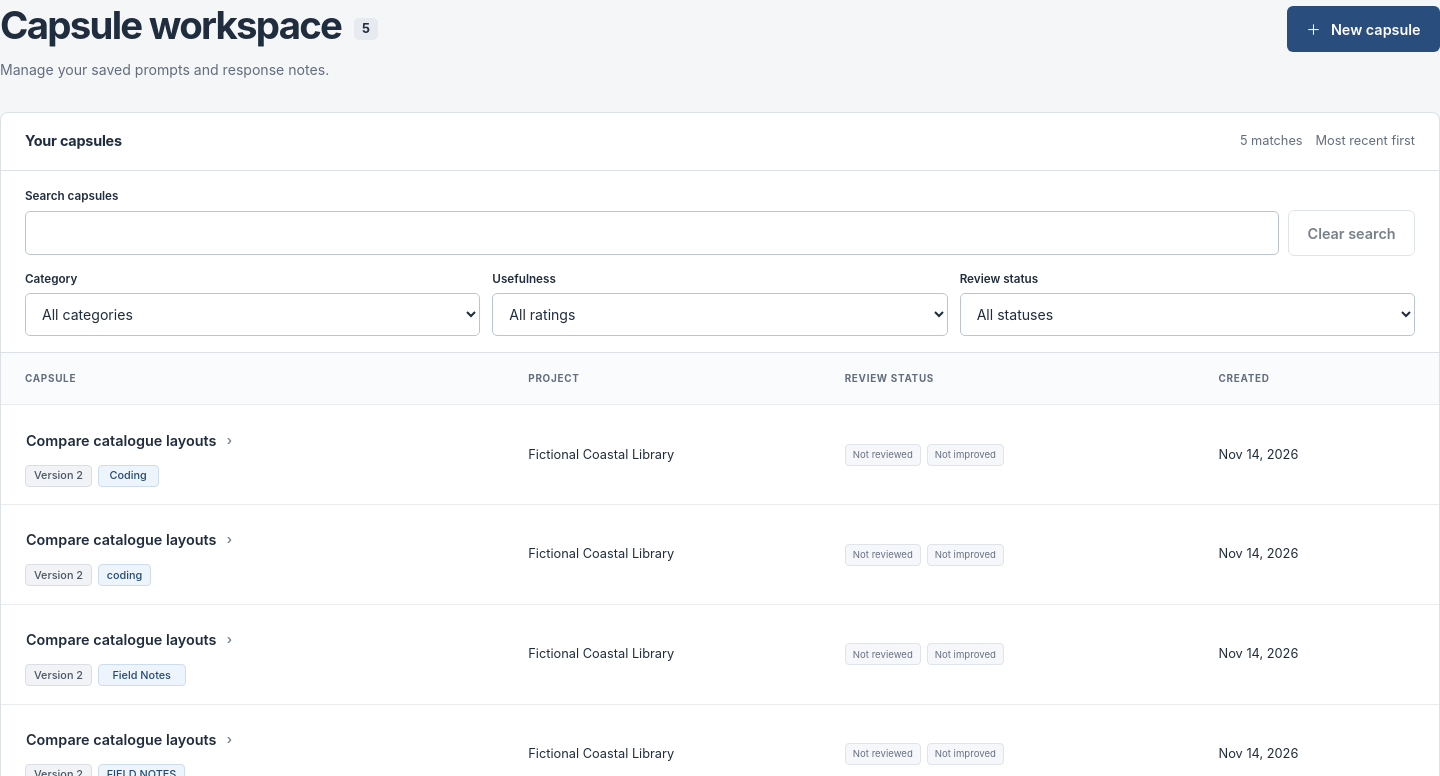
it: capsule workspace › suggests loaded categories once, with trimming and case-insensitive deduplication
This screenshot has width=1440, height=776.
Click the button "＋ New capsule": (1363, 29) [1287, 6, 1439, 52]
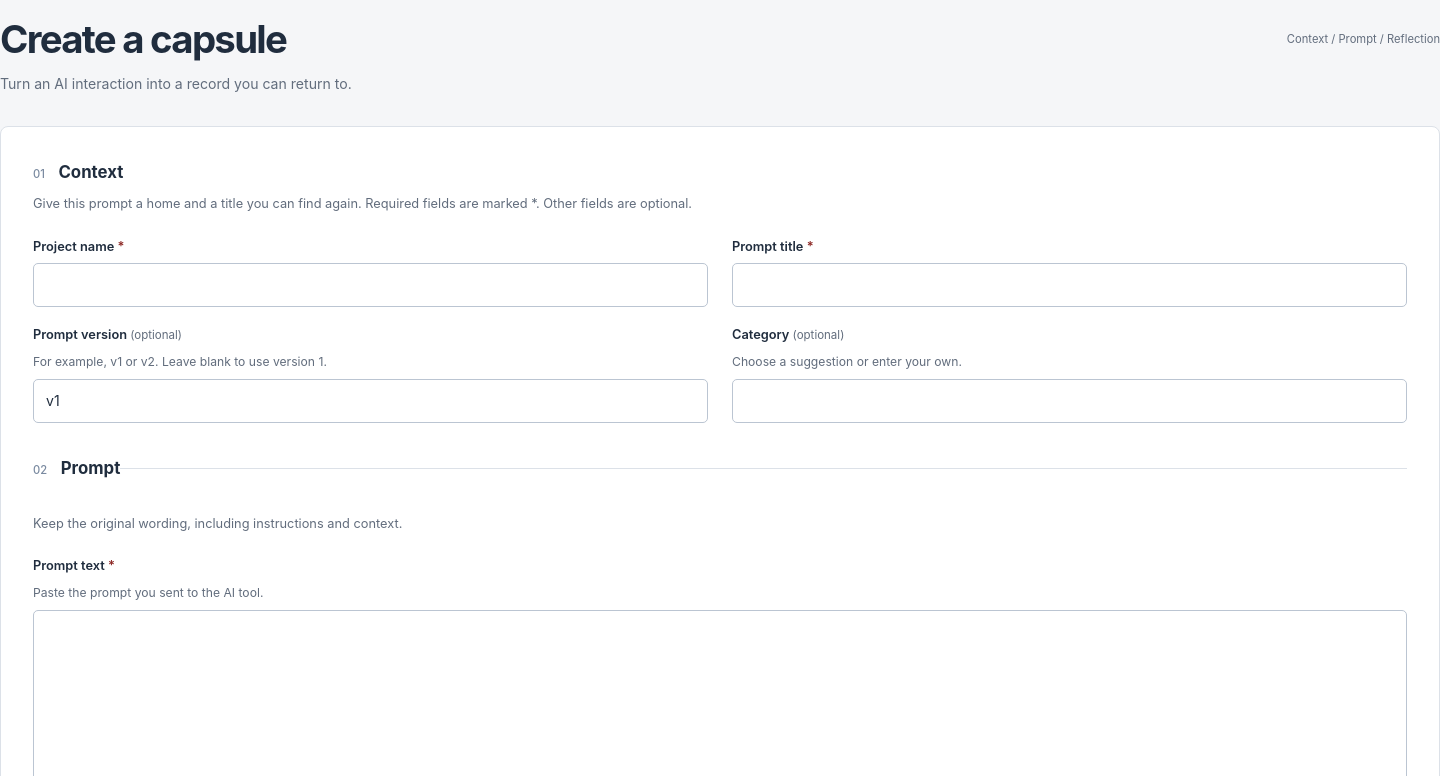
In the field labelled "Project name *": (370, 285) [33, 263, 708, 307], type "Fictional Coastal Library"
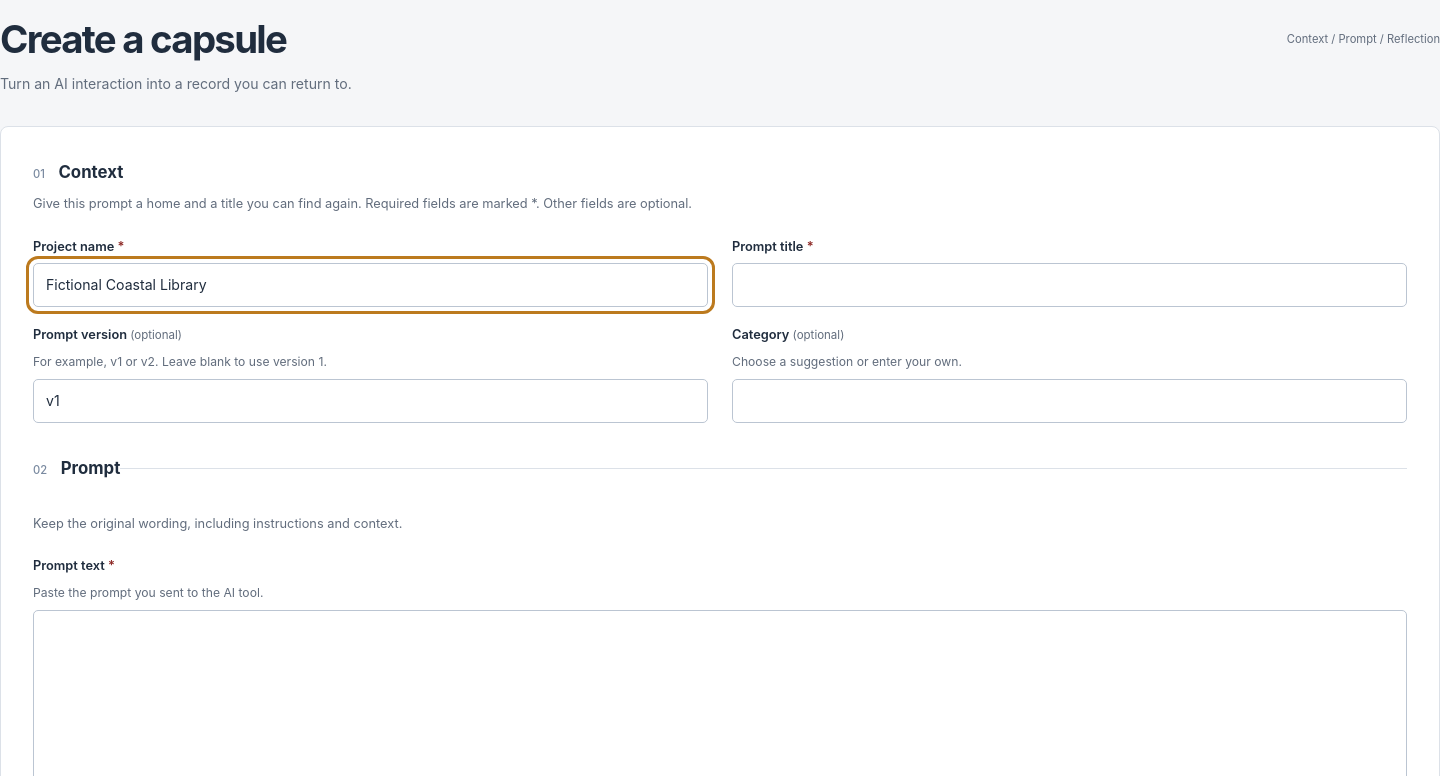
In the field labelled "Prompt title *": (1070, 285) [732, 263, 1407, 307], type "Draft a reading guide"
(page scrolled)
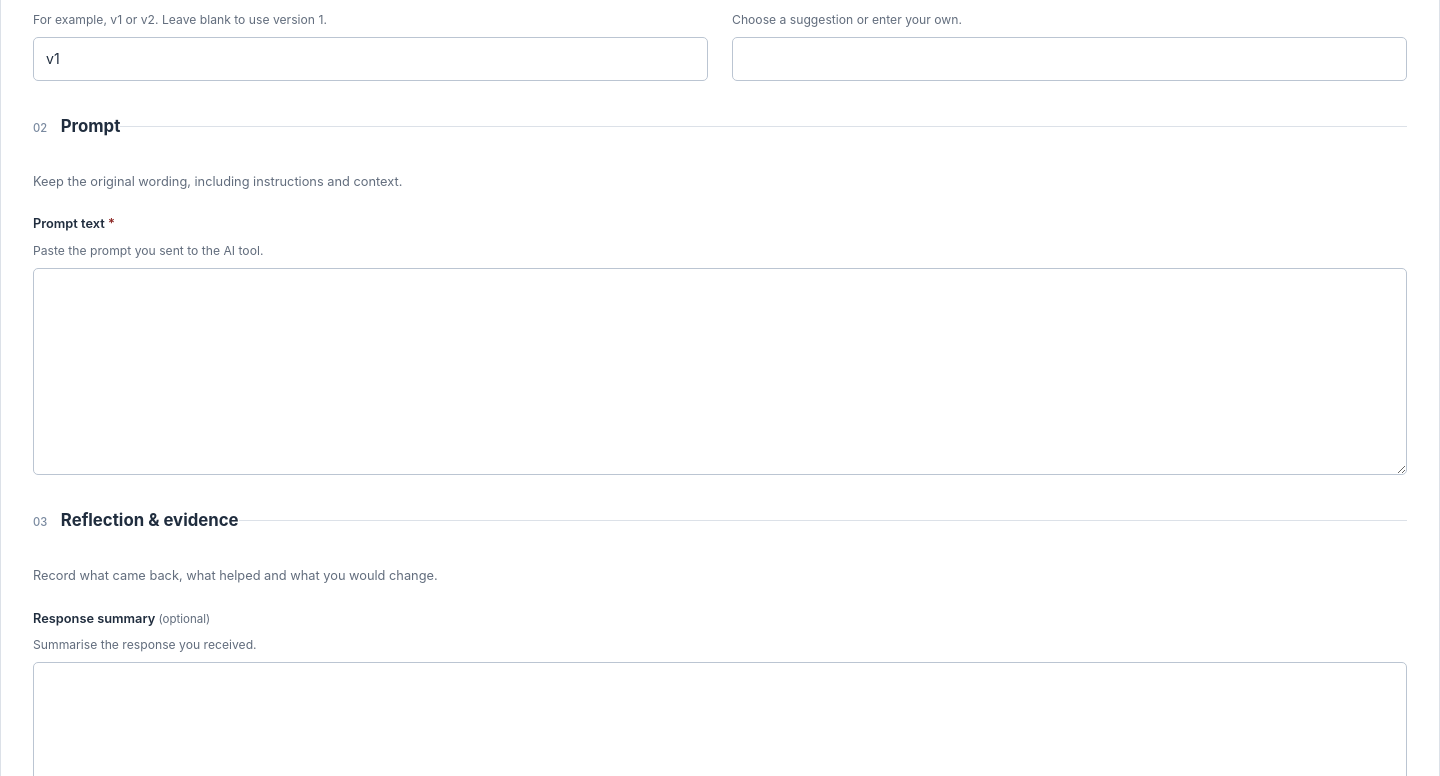
In the text box labelled "Prompt text *": (720, 371) [33, 268, 1407, 475], type "Suggest a reading guide for a fictional book club."
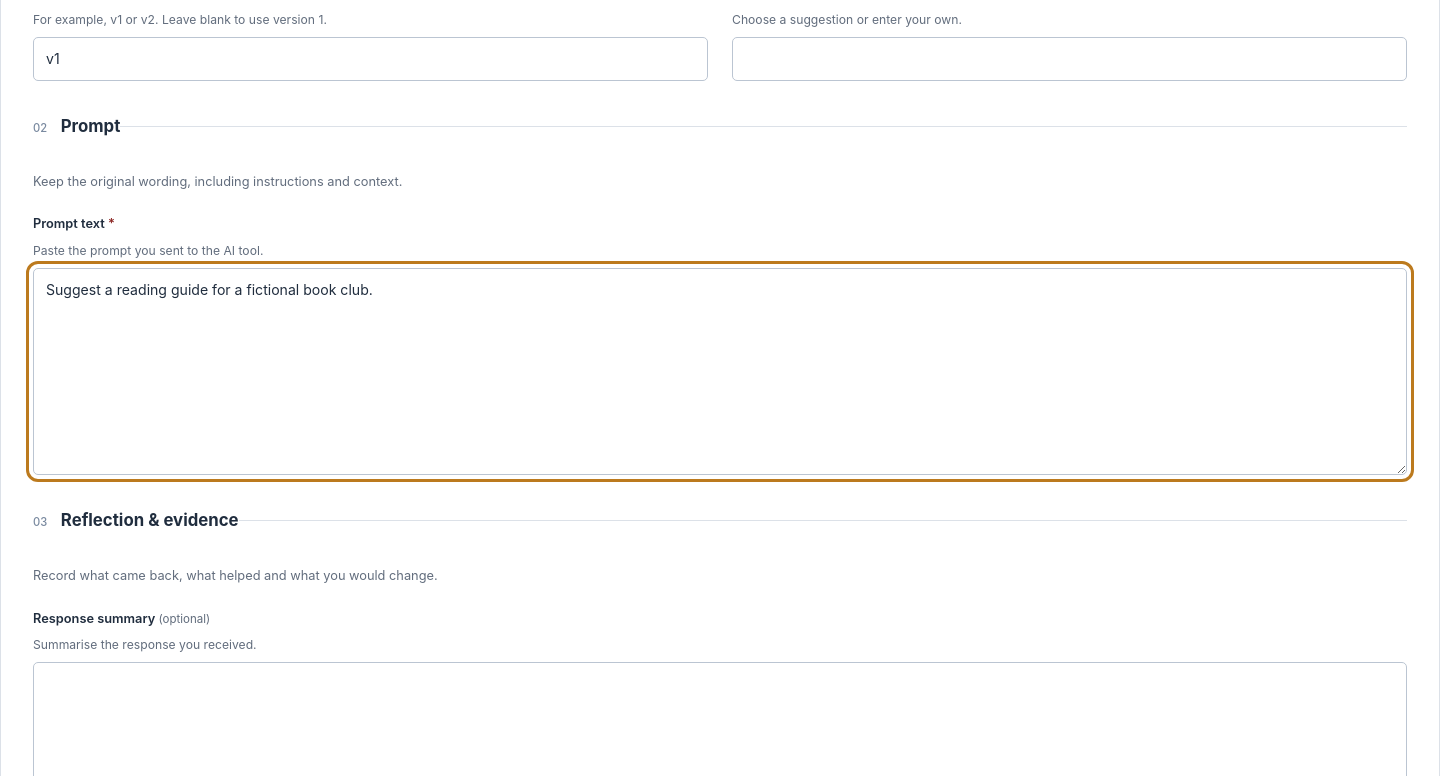
In the field labelled "Category (optional)": (1070, 59) [732, 37, 1407, 81], type "Field Notes"
(page scrolled)
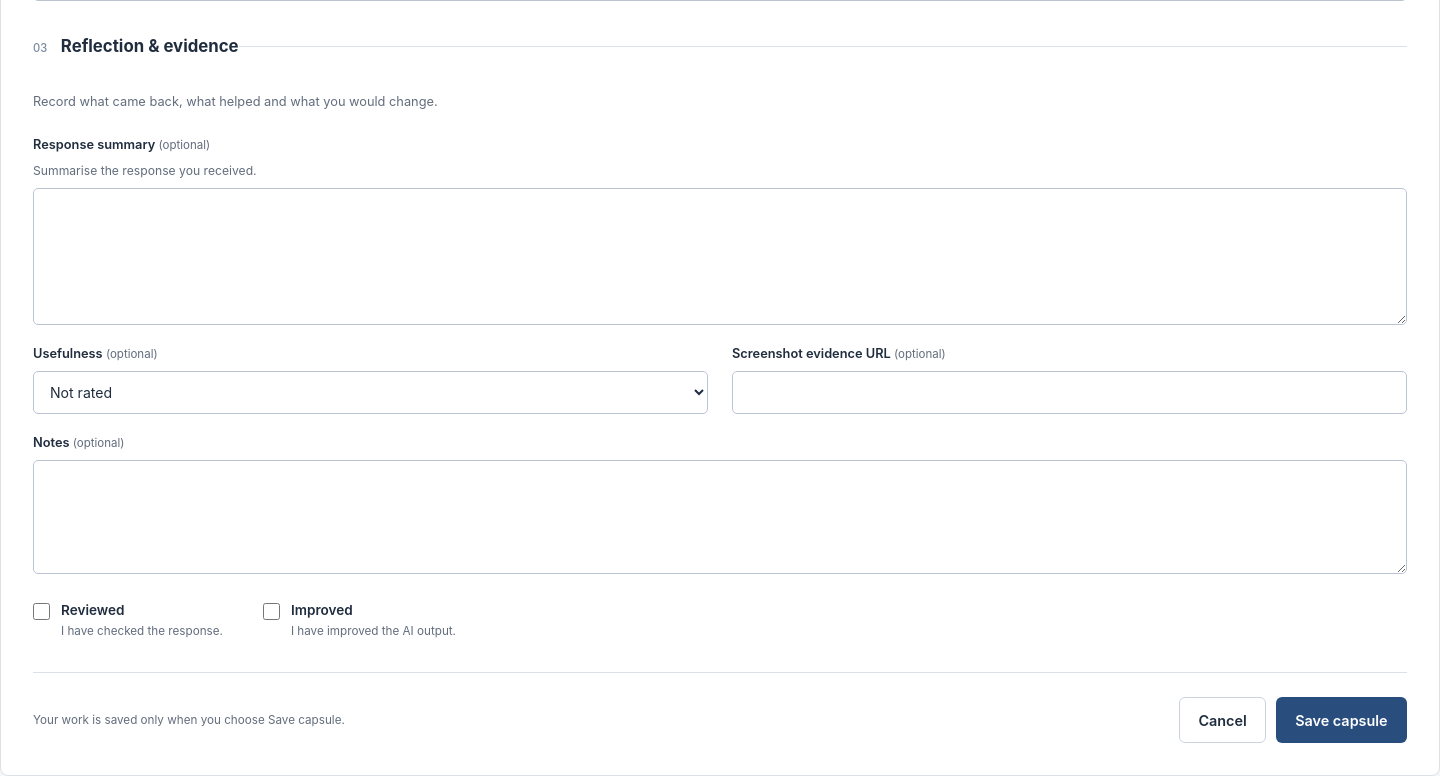
Click the button "Save capsule": (1341, 720) [1276, 697, 1407, 743]
(page scrolled)
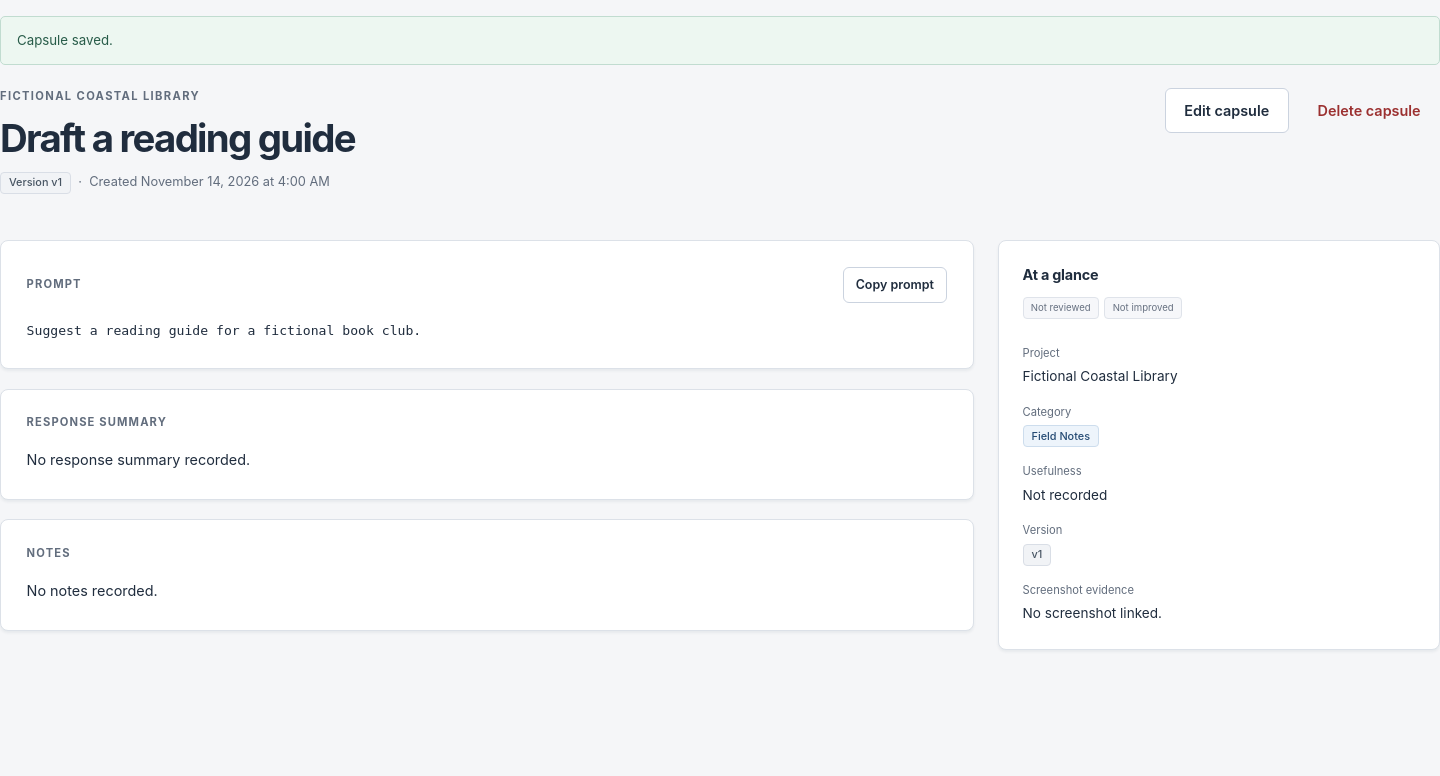
Check: the heading "Draft a reading guide" is shown, box [0, 115, 355, 161]
Check: the text "Field Notes" is shown, box [1022, 425, 1099, 447]
